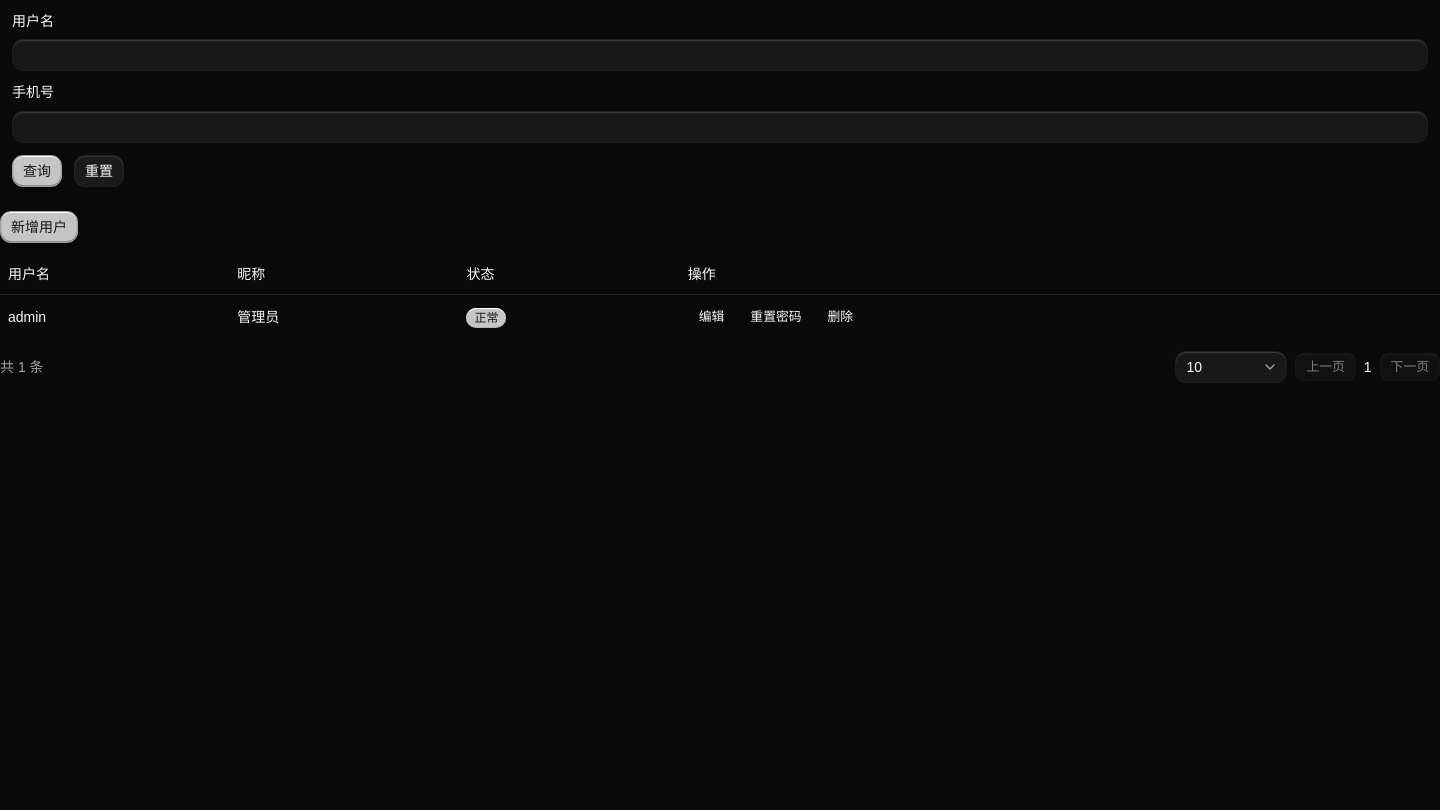
Users page › edit loads user detail and preserves roleIds/postIds on update
Later steps or results of the test are not shown.
Check: the text "admin" is shown, box [0,294,229,339]
Click the button "编辑" at x=712, y=317, box [688,303,735,331]
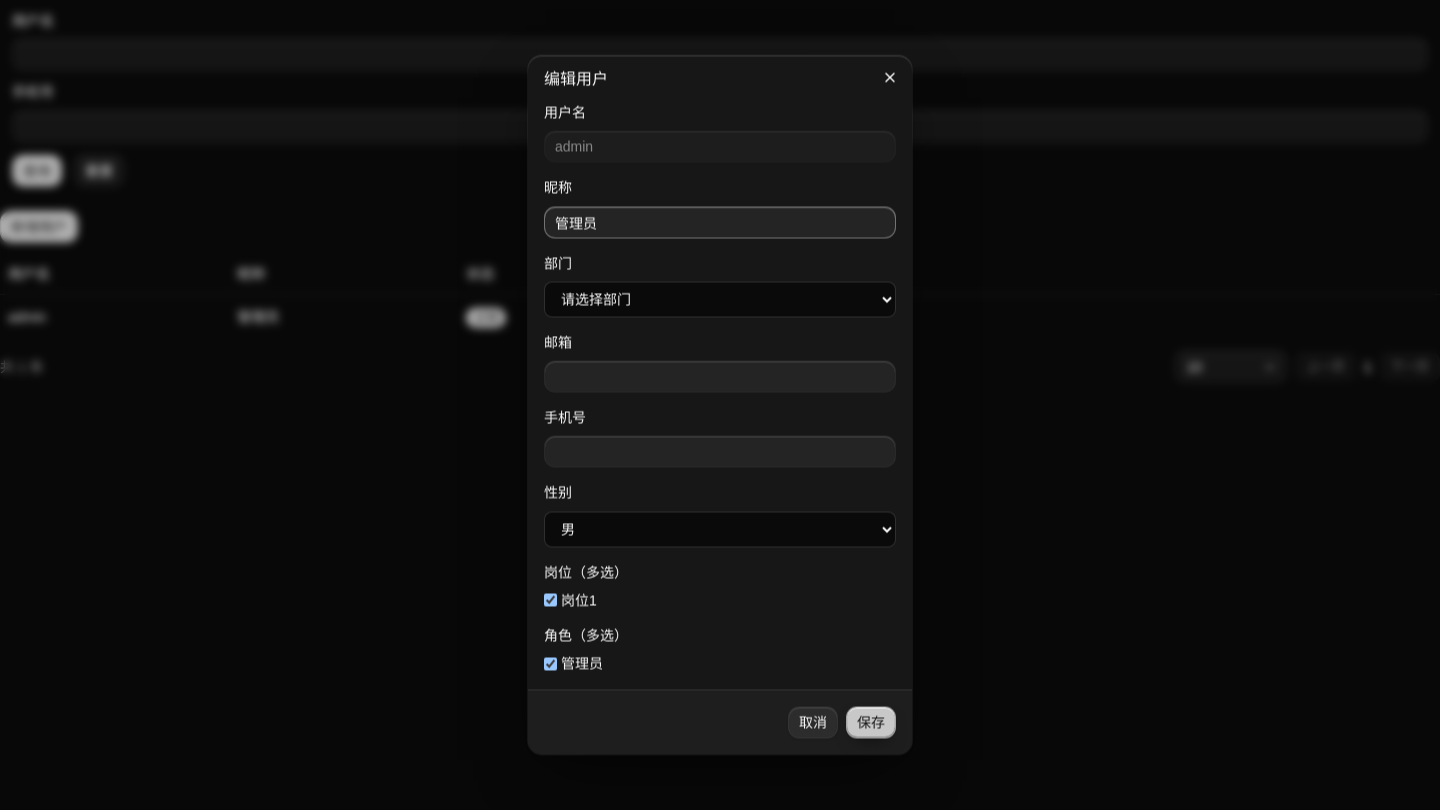
Check: the checkbox labelled "管理员" is checked, box [544,657,557,670]
Check: the checkbox labelled "岗位1" is checked, box [544,594,557,607]
